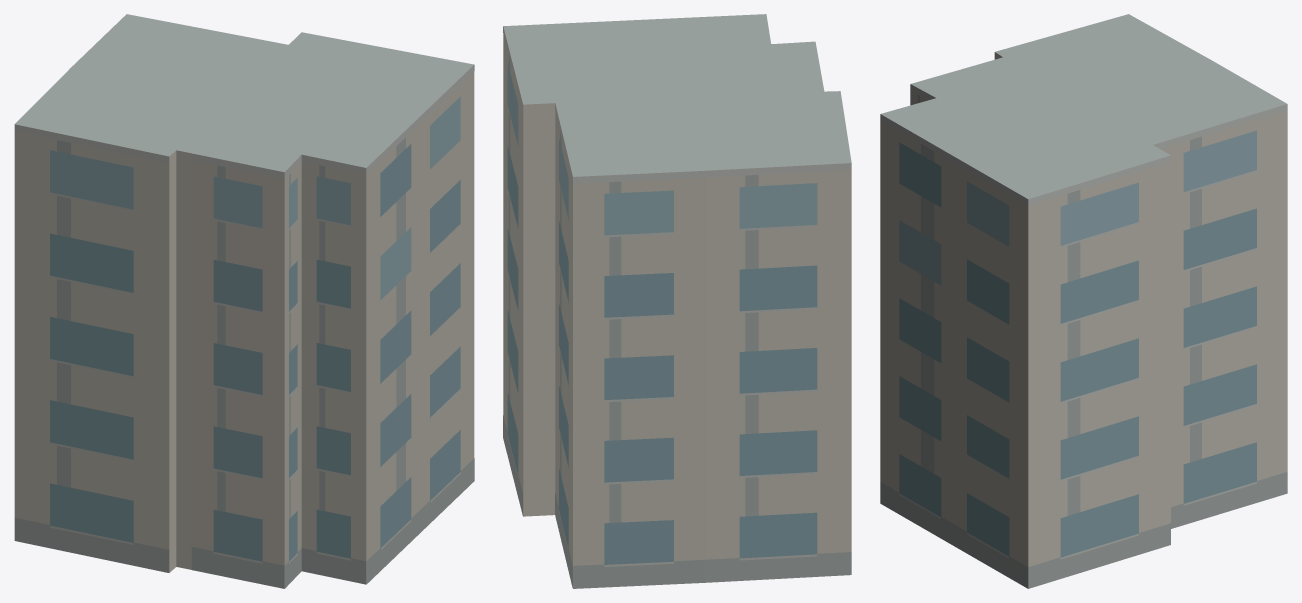
Rendered from survey-upis-32885082.glb.
3 renders of one model, left to right at view 1: azimuth 30°, elevation 25°; view 2: azimuth 150°, elevation 25°; view 3: azimuth 270°, elevation 25°, orthographic. The views are drawn at different scales.
Visible parts, largest first — view 1: survey-upis-32885082.tmp; view 2: survey-upis-32885082.tmp; view 3: survey-upis-32885082.tmp.
Boxes of the visible parts, <box> form: survey-upis-32885082.tmp: <box>14,14,474,588</box>; survey-upis-32885082.tmp: <box>503,14,851,588</box>; survey-upis-32885082.tmp: <box>880,14,1287,588</box>.
Size of the model in its own units: 15 by 14.7 by 13.93.
